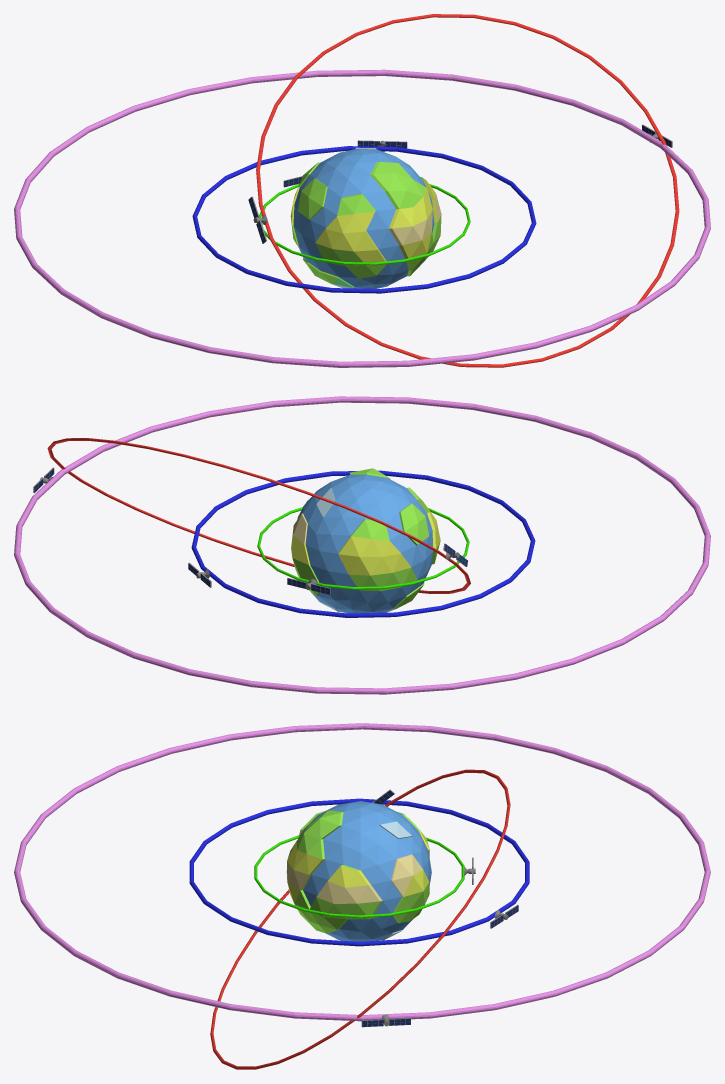
File: orbits.glb
3 views of the same model, one above another, from view 1: azimuth 30°, elevation 25°; view 2: azimuth 150°, elevation 25°; view 3: azimuth 270°, elevation 25° (orthographic).
Visible parts, largest first — view 1: Earth, GEO, HEO, MEO, LEO; view 2: Earth, GEO, MEO, HEO, LEO; view 3: Earth, GEO, MEO, HEO, LEO.
Boxes of the visible parts, x1,y1,x2,y2 form: Earth: (290,147,441,288); GEO: (14,69,710,367); HEO: (256,14,679,367); MEO: (192,146,536,293); LEO: (258,183,470,265); Earth: (291,468,440,613); GEO: (14,396,710,694); MEO: (191,470,535,617); HEO: (47,438,470,593); LEO: (257,507,469,589); Earth: (286,801,431,941); GEO: (14,723,710,1021); MEO: (189,798,529,946); HEO: (210,769,510,1069); LEO: (254,835,464,918).
Size of the model in its own units: 19.79 by 7.16 by 19.55.
